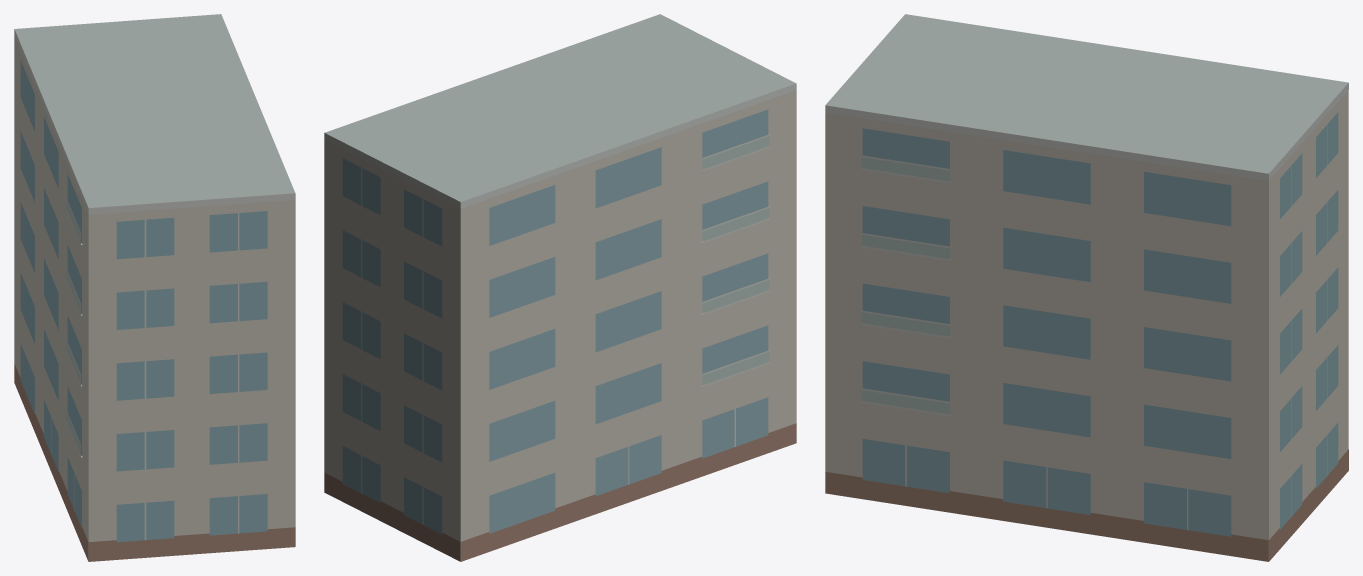
The model's file is survey-upis-32851173.glb.
The picture shows the model from 3 angles, left to right: view 1: azimuth 30°, elevation 25°; view 2: azimuth 150°, elevation 25°; view 3: azimuth 270°, elevation 25°; orthographic projection. The views are drawn at different scales.
Parts seen in each view (by area): view 1: survey-upis-32851173.tmp; view 2: survey-upis-32851173.tmp; view 3: survey-upis-32851173.tmp.
Part boxes in pixels (x1,y1,x2,y2): survey-upis-32851173.tmp: (14, 14, 295, 561); survey-upis-32851173.tmp: (324, 14, 796, 561); survey-upis-32851173.tmp: (825, 14, 1348, 561).
Size of the model in its own units: 11.66 by 13.2 by 16.15.
